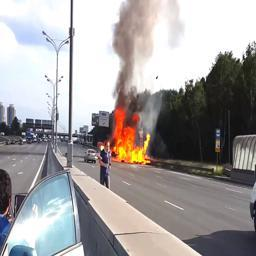fire: (104, 107, 152, 165)
